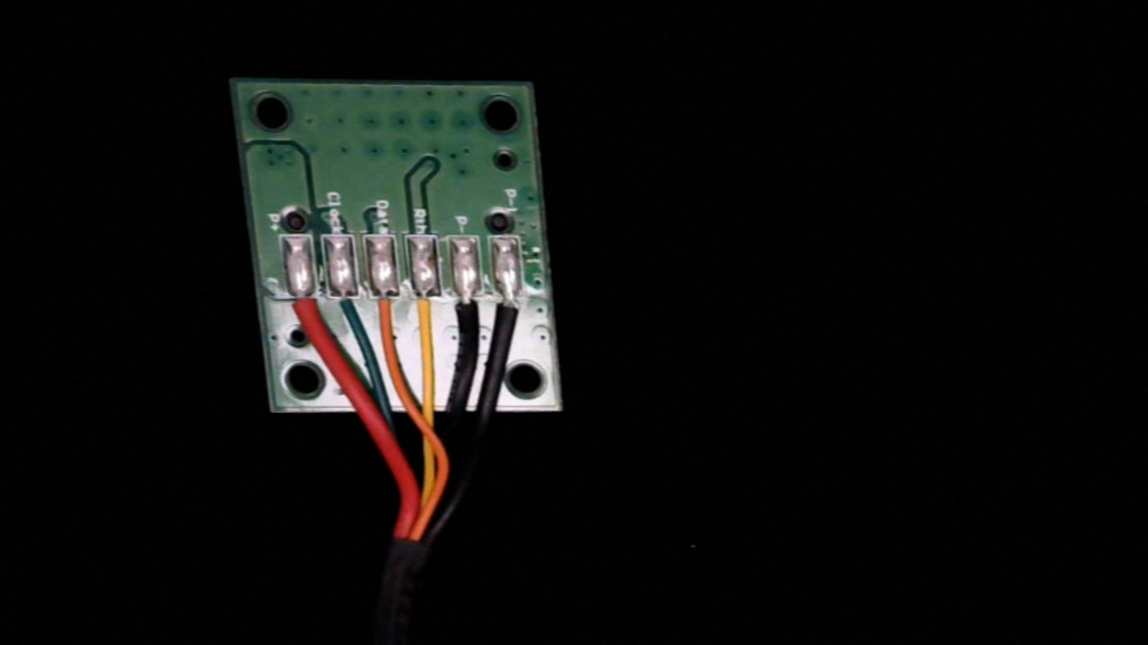Black: (452, 284, 486, 340)
Black1: (493, 284, 529, 340)
Green: (327, 281, 365, 333)
Orange: (368, 283, 407, 335)
Red: (287, 280, 320, 333)
Yellow: (408, 285, 448, 342)
